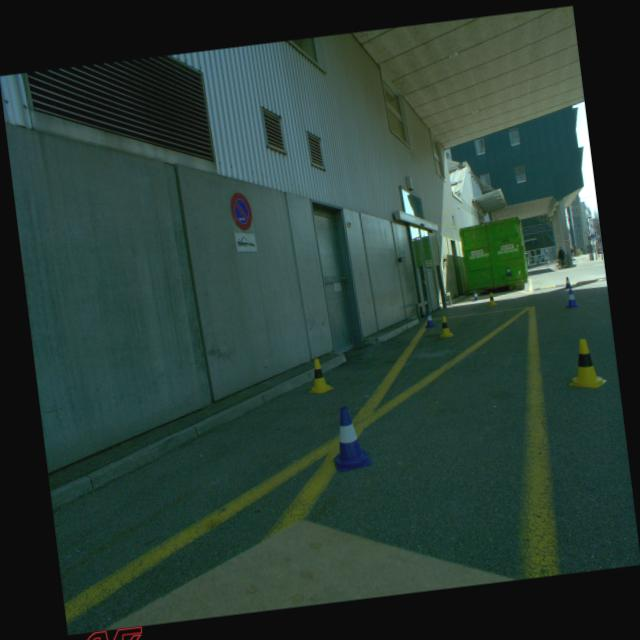blue_cone: (328, 404, 372, 471), (564, 288, 578, 308), (422, 309, 436, 328), (563, 276, 572, 288), (472, 290, 478, 301)
yellow_cone: (564, 336, 607, 391), (304, 356, 334, 394), (436, 314, 454, 338), (486, 292, 496, 306)
